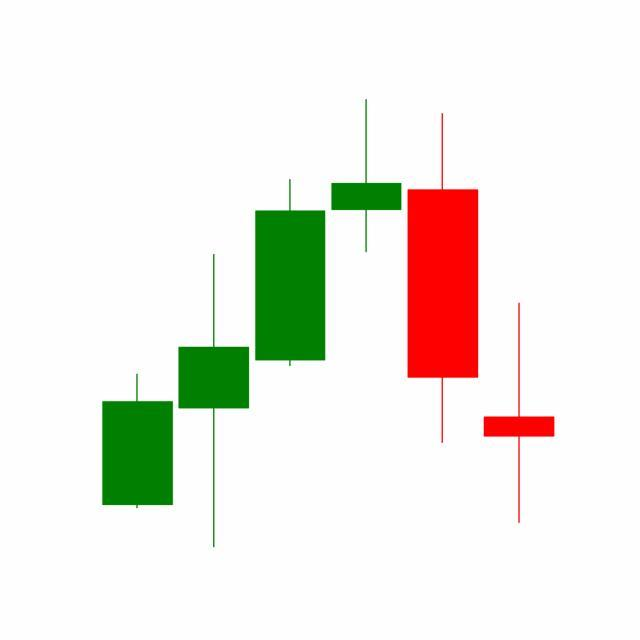Evening Star: (252, 100, 482, 449)
